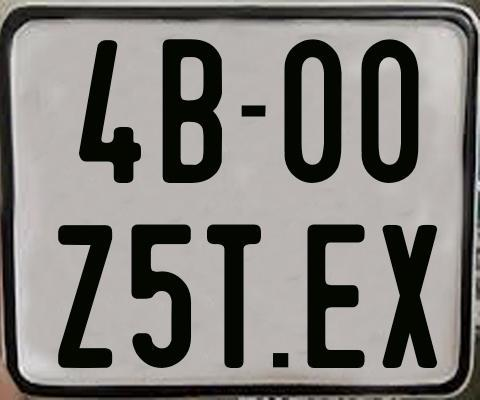0: (284, 36, 345, 184), (361, 37, 419, 185)
4: (76, 38, 143, 184)
5: (130, 224, 195, 372)
B: (160, 36, 225, 183)
E: (307, 224, 368, 371)
T: (207, 221, 263, 370)
X: (381, 225, 441, 374)
Z: (58, 222, 118, 371)
